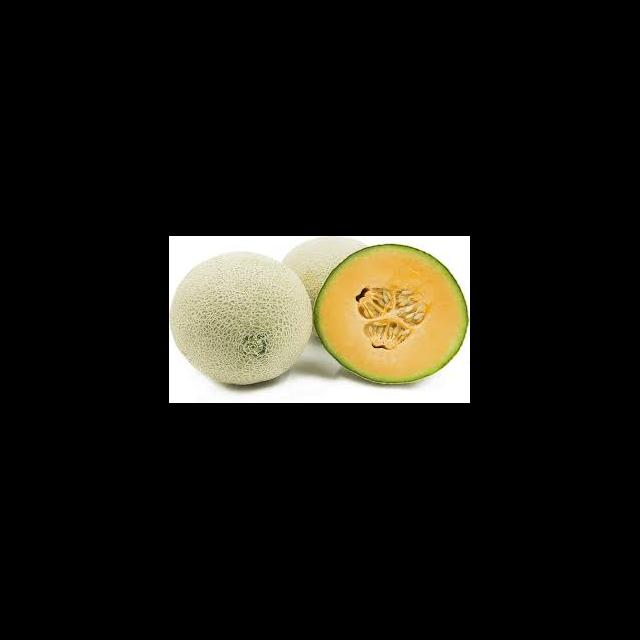Hami Melon: (316, 244, 470, 387), (171, 252, 314, 386)
